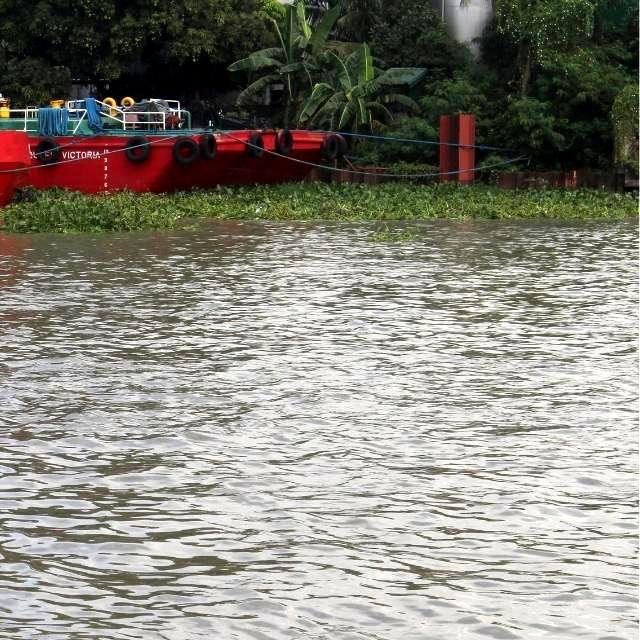water-hyacinth: (6, 169, 640, 238)
